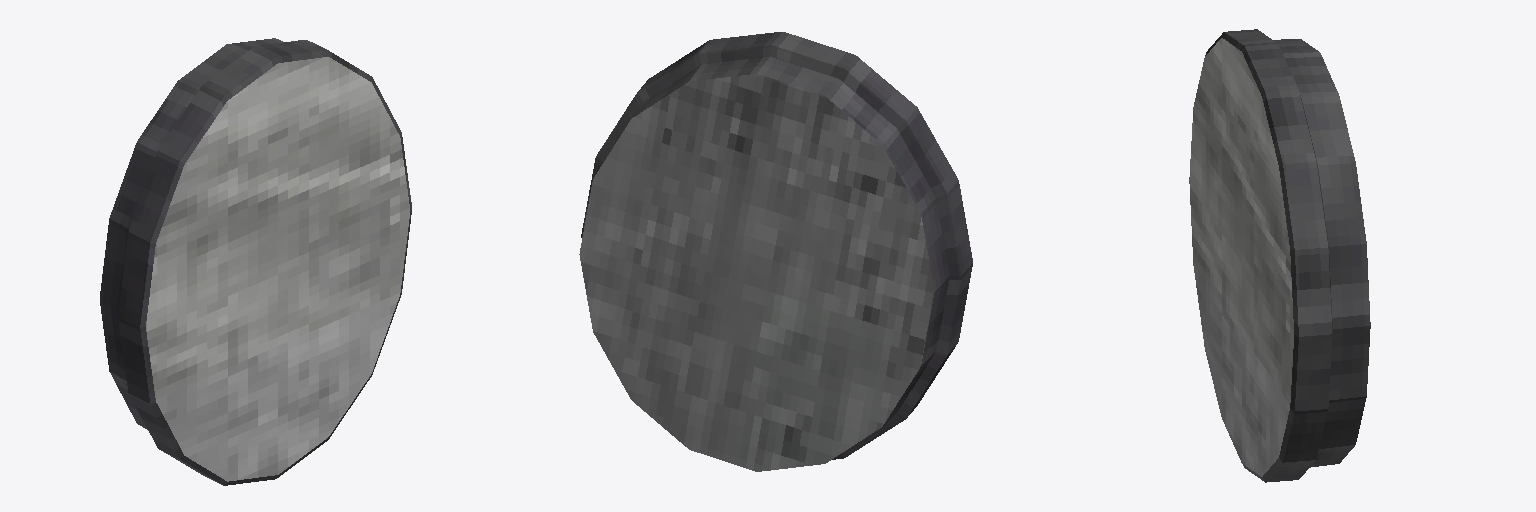
3 views of the same model, side by side, from view 1: azimuth 30°, elevation 25°; view 2: azimuth 150°, elevation 25°; view 3: azimuth 270°, elevation 25° (orthographic).
Visible parts, largest first — view 1: LlantaIzq1; view 2: LlantaIzq1; view 3: LlantaIzq1.
Boxes of the visible parts, x1=… form: LlantaIzq1: x1=100, y1=38, x2=411, y2=485; LlantaIzq1: x1=579, y1=32, x2=972, y2=471; LlantaIzq1: x1=1189, y1=29, x2=1370, y2=482.
Bounding box in the file's own units: 0.219 × 0.2663 × 0.1037.
1 materials, 1 textured.